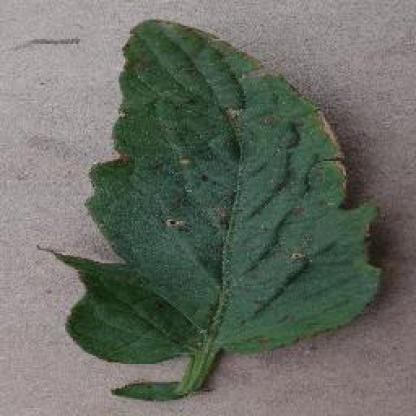bad leaf: (47, 14, 391, 415)
